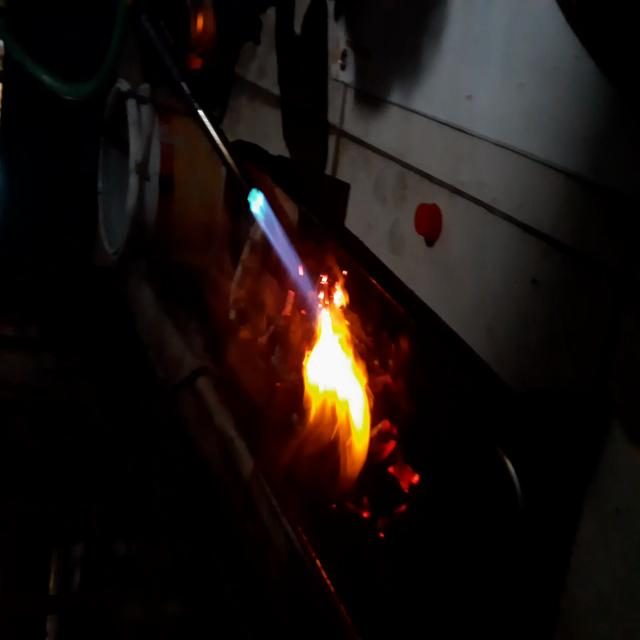Fire: (301, 290, 373, 477), (232, 288, 302, 446), (367, 375, 430, 519), (247, 175, 306, 288)
